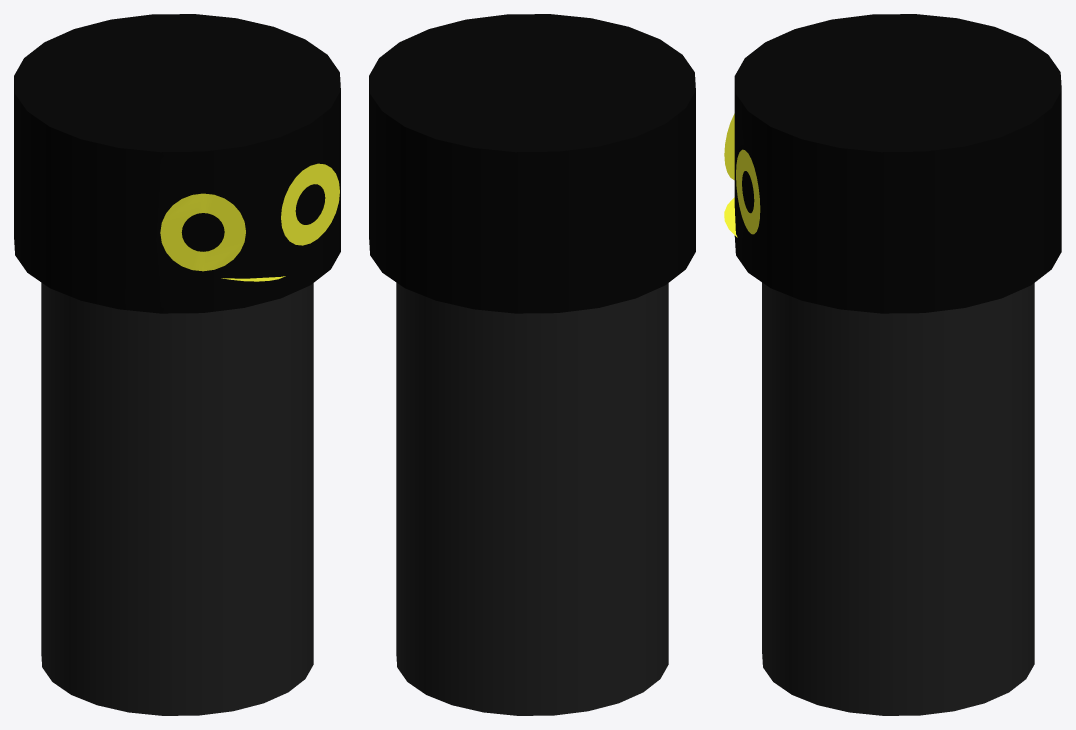
The model's file is slinkChar.fbx.
3 views of the same model, side by side, from view 1: azimuth 30°, elevation 25°; view 2: azimuth 150°, elevation 25°; view 3: azimuth 270°, elevation 25° (orthographic).
Visible parts, largest first — view 1: Model; view 2: Model; view 3: Model.
Part boxes in pixels (x1,y1,x2,y2): Model: (14, 14, 340, 715); Model: (369, 14, 695, 715); Model: (724, 14, 1061, 715).
Bounding box in the file's own units: 0.4774 × 0.9268 × 0.4929.
